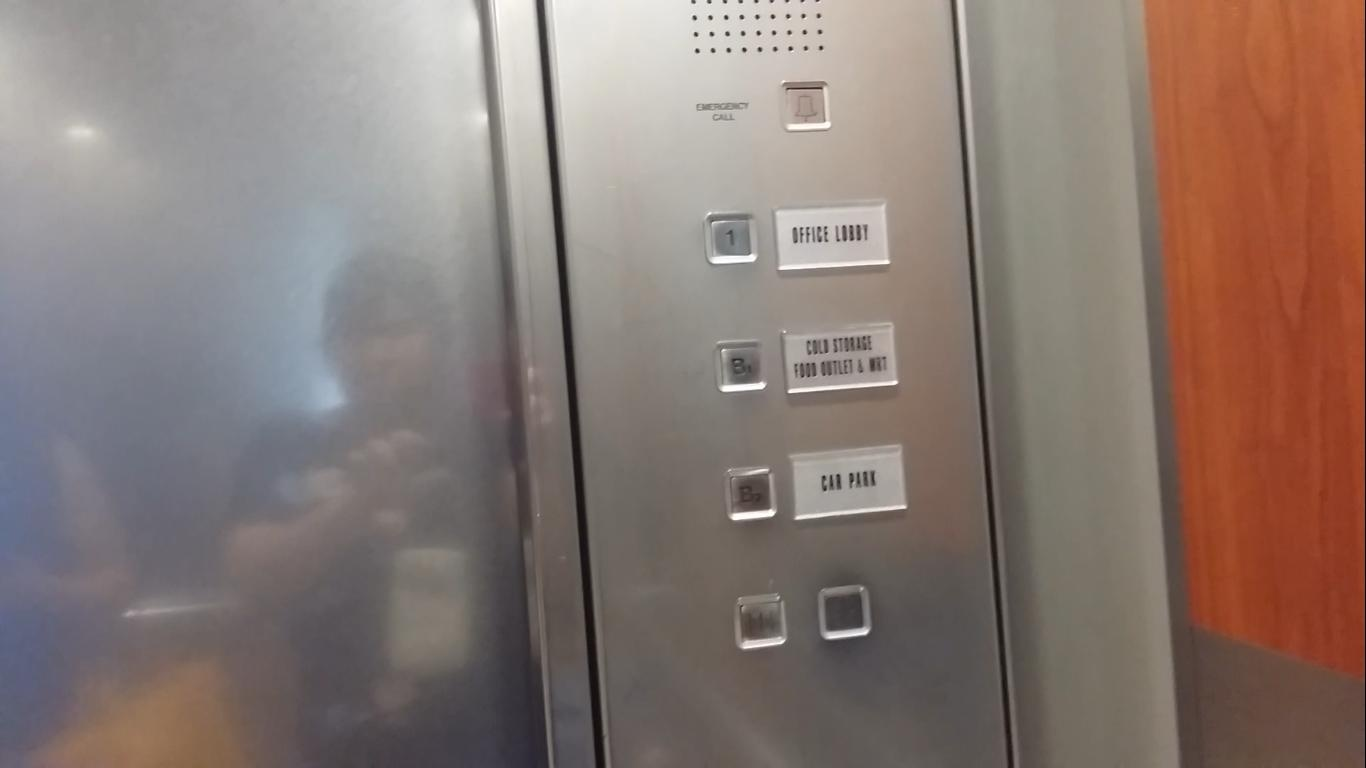1: (702, 207, 760, 269)
B1: (712, 334, 767, 397)
B2: (721, 462, 778, 524)
alarm: (778, 78, 833, 133)
blur: (814, 582, 875, 645)
open: (730, 590, 791, 654)
